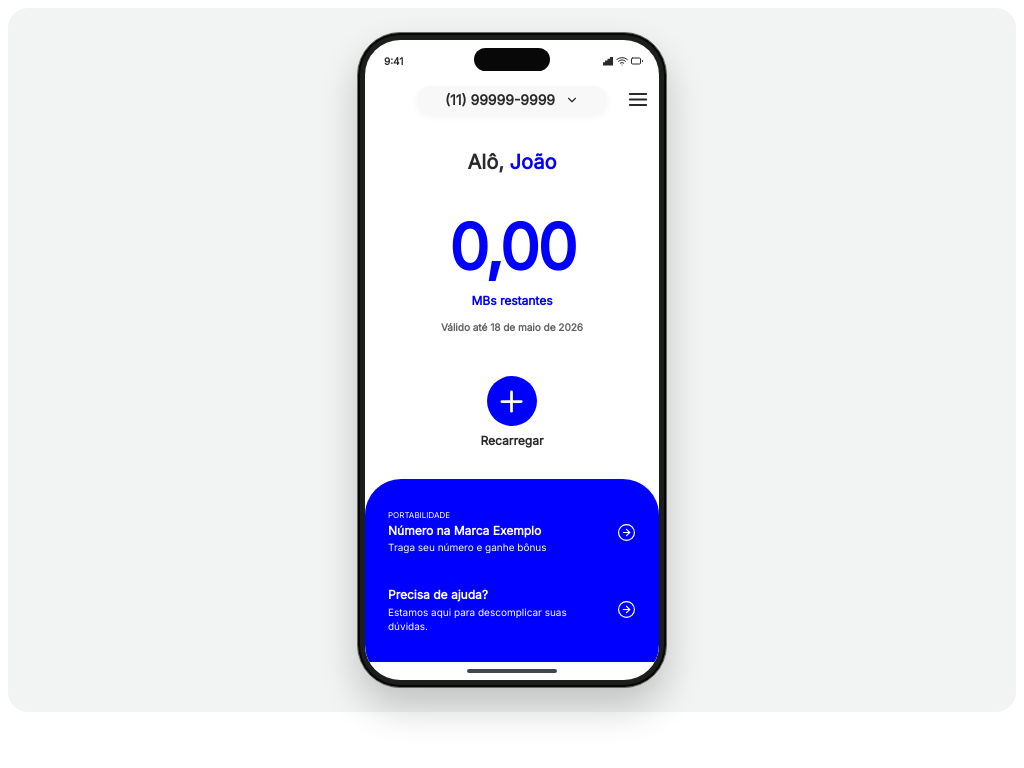
Scenario: o botão de menu da Home abre a grade real e informa o host
Click the button named "Abrir menu do aplicativo": (638, 100) top-left (627, 86), bottom-right (649, 114)
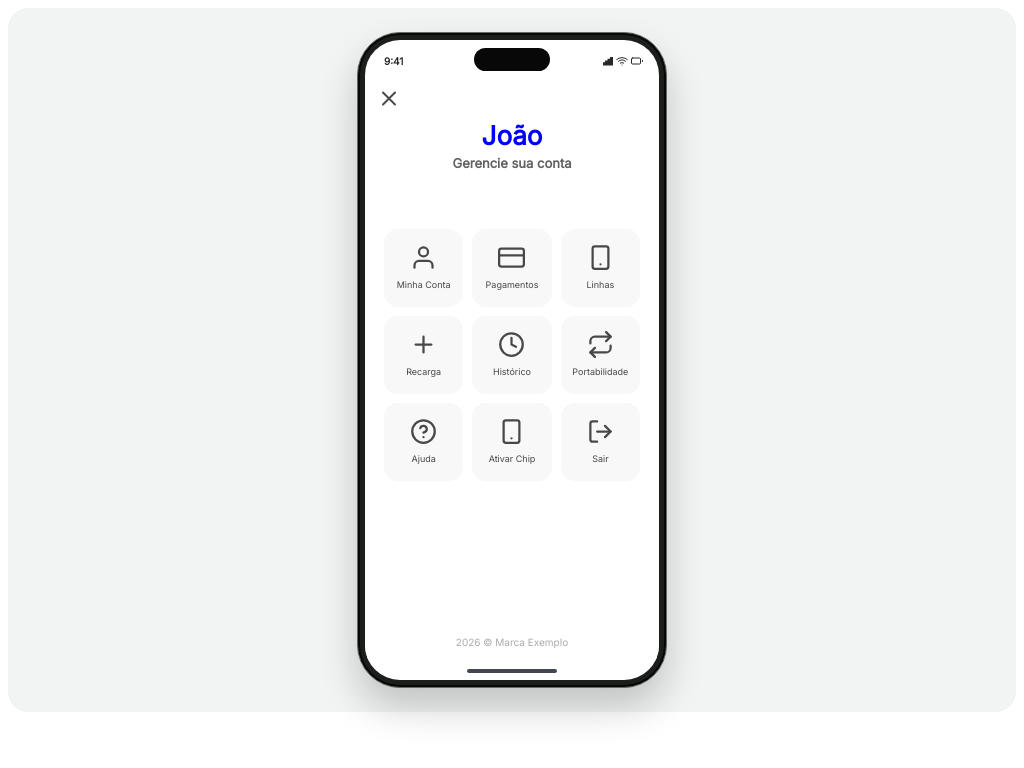
Result: the text "Gerencie sua conta" is shown at top-left (452, 155), bottom-right (572, 171)
